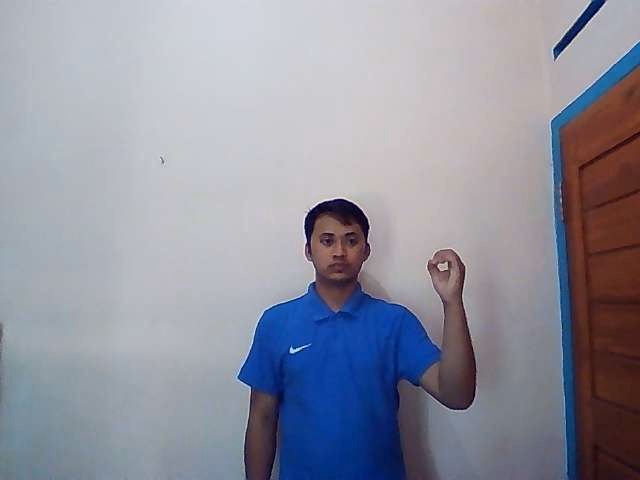O: (427, 248, 469, 301)
